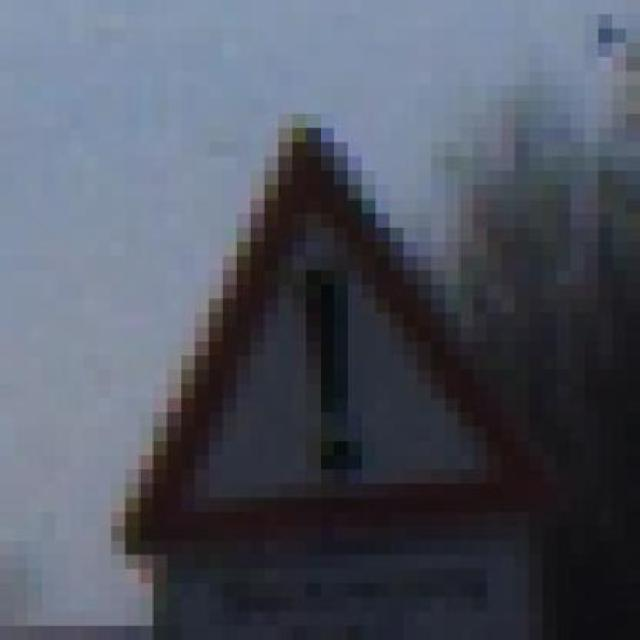Attention Please-: (55, 114, 557, 569)
